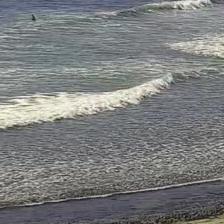surfer: (32, 13, 36, 21)
